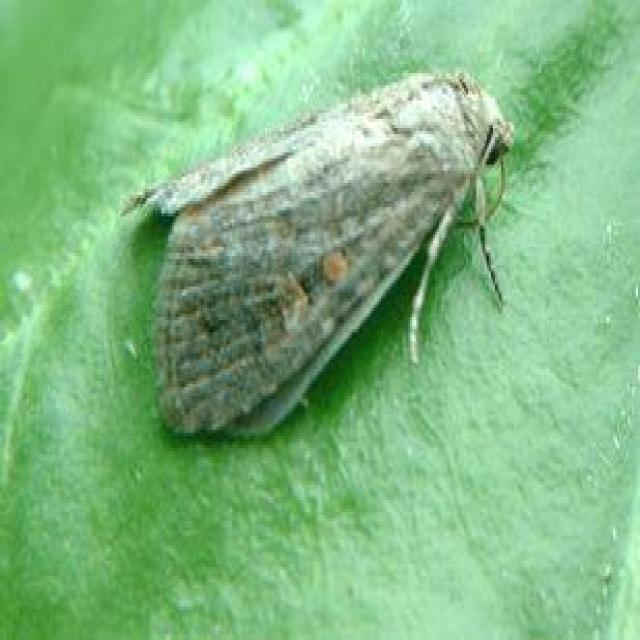BeetArmyWorm-Adult-: (109, 60, 524, 438)
